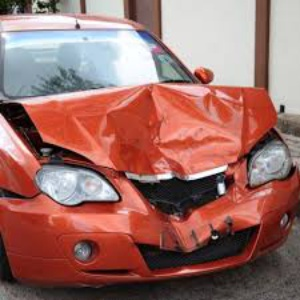bonnet: (33, 88, 275, 149)
bumper: (118, 207, 267, 249)
